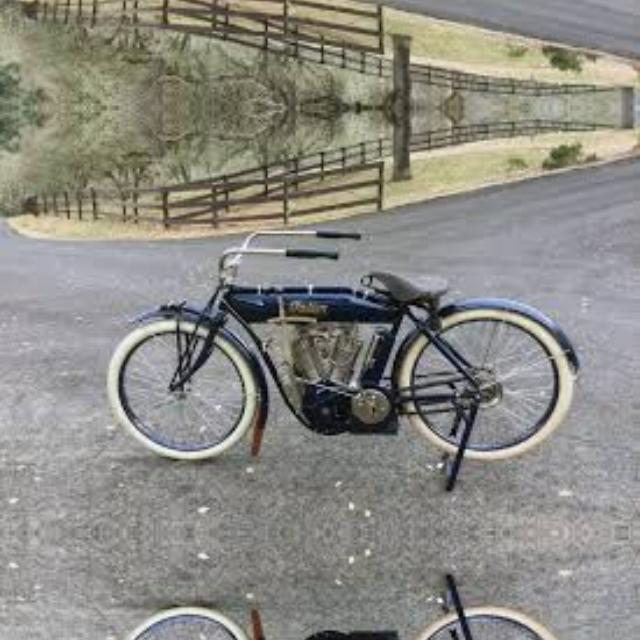obstacle: (100, 214, 640, 520), (100, 546, 640, 640)
